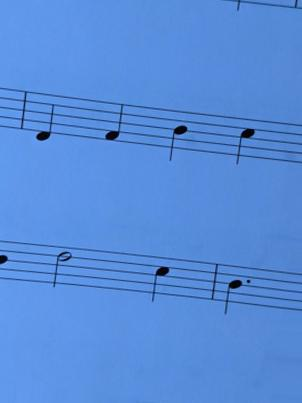B: (163, 105, 191, 166), (219, 260, 242, 322)
D: (31, 87, 57, 145)
F: (101, 97, 125, 151)
HC: (229, 111, 258, 169), (146, 249, 173, 309)
